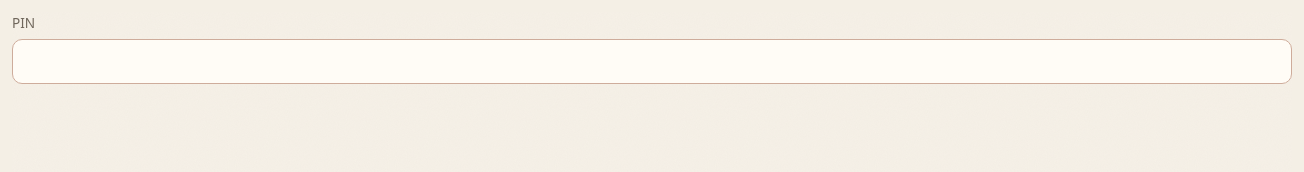
it: PinInput › keeps only up to 6 digits, masks them, and opts out of browser saving
The width and height of the screenshot is (1304, 172).
Later steps or results of the test are not shown.
Type "12a34-56789" into the field labelled "PIN".
click(652, 61); type("12a34-56789")  # box [12,38,1292,84]
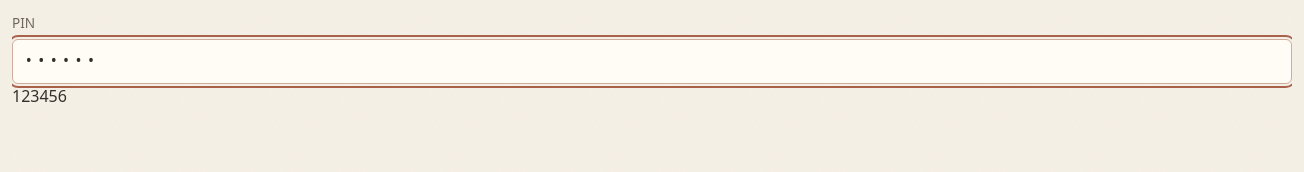
expect the text with test id "value" reads "123456": met, box [12,85,67,107]
